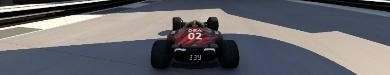Car: (149, 16, 239, 69)
